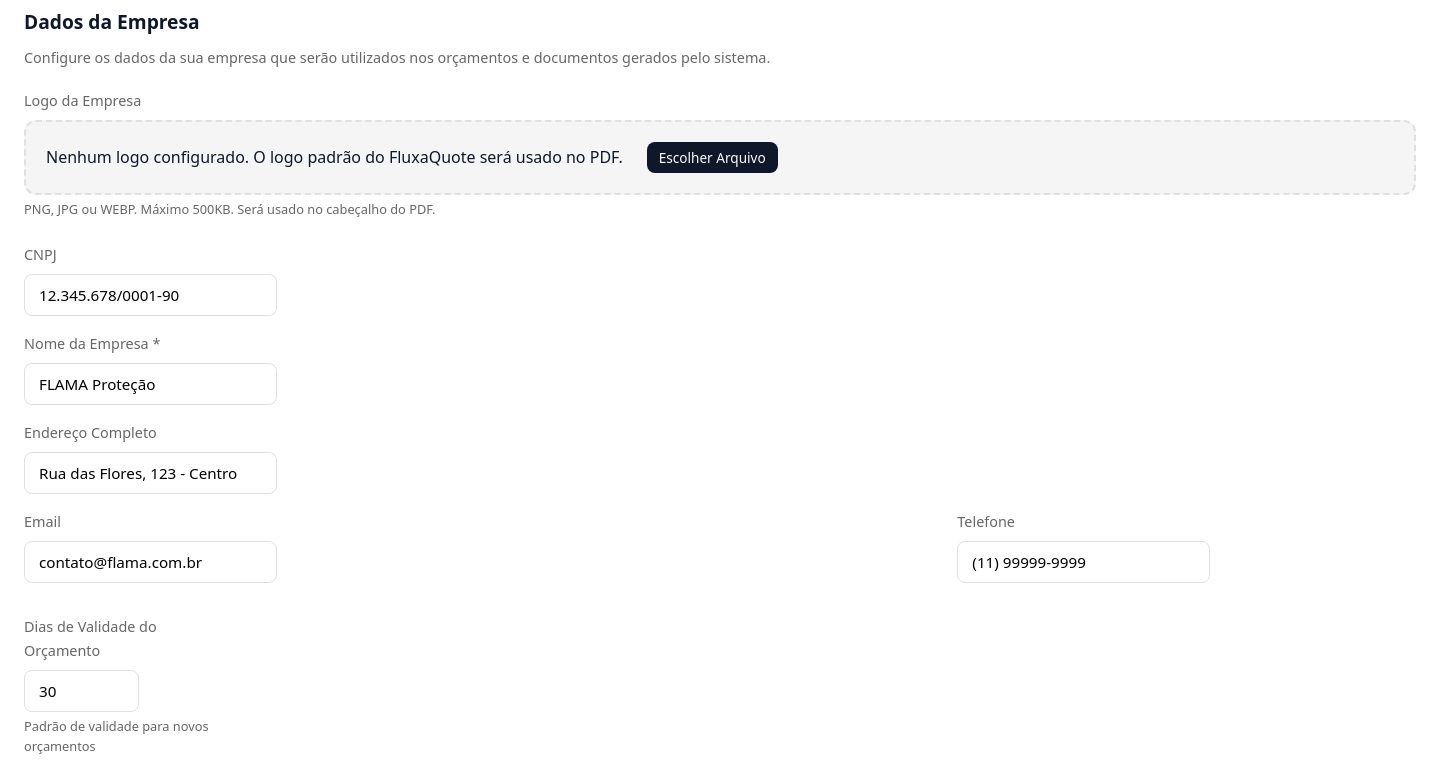
EmpresaTab › Salvar configurações › deve salvar configurações com sucesso
Replace the text in the field showing "FLAMA Proteção" below "Nome da Empresa *" with "Nova Empresa" at (150,384), box [24,363,277,405]
(page scrolled)
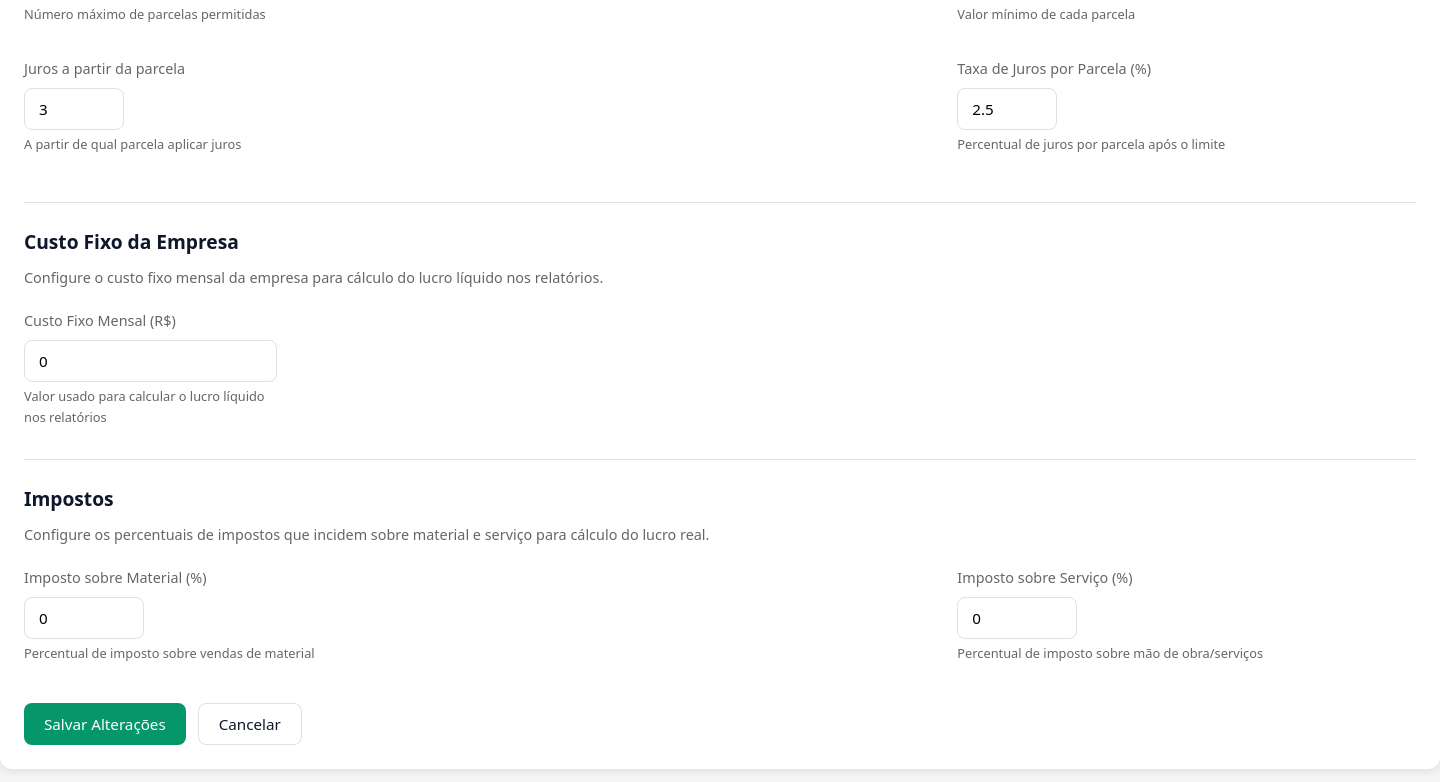
Click the button "Salvar Alterações".
click(105, 724)  # box [24,703,186,745]
(page scrolled)
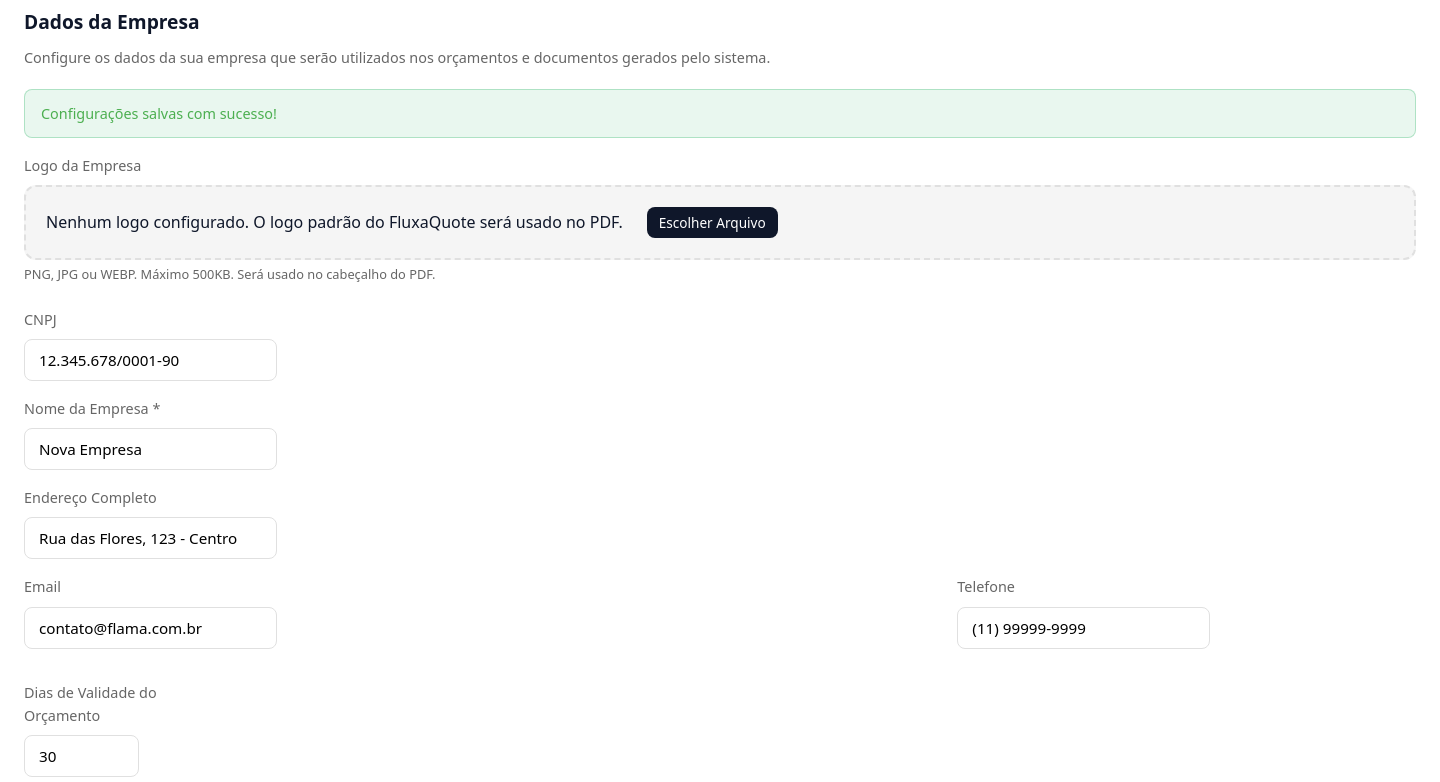
Result: the text "Configurações salvas com sucesso!" is shown at [24,89,1416,138]
